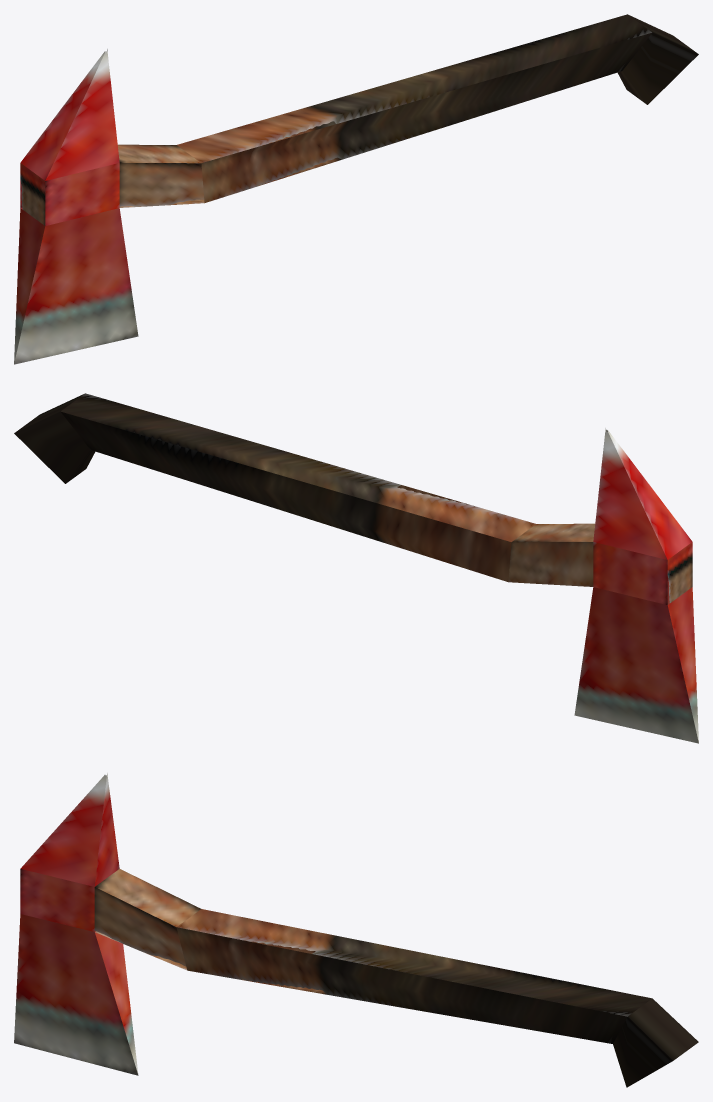
File: Axe.fbx
3 views of the same model, one above another, from view 1: azimuth 30°, elevation 25°; view 2: azimuth 150°, elevation 25°; view 3: azimuth 330°, elevation 25° (orthographic).
Visible parts, largest first — view 1: Axe; view 2: Axe; view 3: Axe.
Part boxes in pixels (<box>): Axe: <box>14,14,698,364</box>; Axe: <box>14,393,698,743</box>; Axe: <box>14,773,698,1087</box>.
Size of the model in its own units: 438 by 184 by 29.03.
